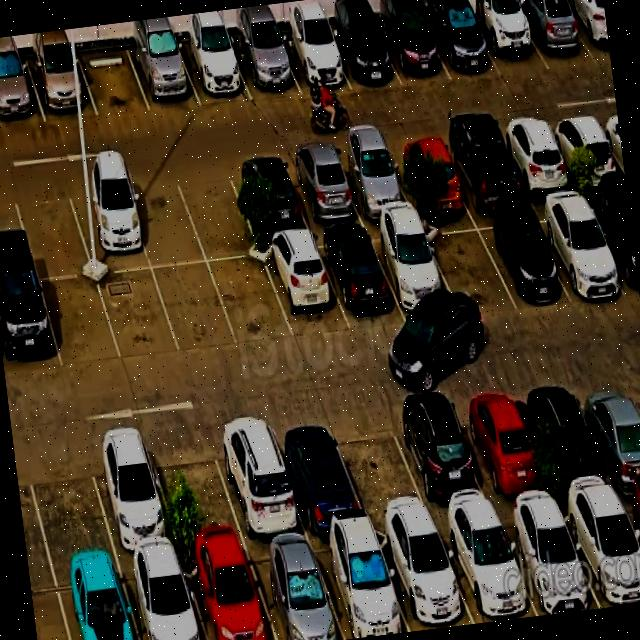empty: (328, 404, 432, 525), (145, 427, 245, 552), (22, 438, 115, 567), (420, 217, 516, 317), (174, 163, 260, 262), (123, 172, 206, 268), (11, 183, 93, 279), (97, 268, 180, 361), (152, 263, 237, 353), (208, 257, 293, 345), (40, 276, 121, 368), (77, 46, 150, 116)
occupied: (386, 394, 495, 521), (450, 386, 553, 512), (208, 414, 308, 543), (268, 412, 368, 534), (83, 431, 179, 558), (521, 378, 618, 503), (497, 507, 600, 616), (436, 514, 538, 623), (310, 530, 409, 639), (374, 524, 474, 631), (244, 539, 345, 640), (529, 197, 627, 300), (473, 210, 569, 309), (260, 235, 349, 340), (558, 495, 640, 608), (314, 228, 405, 329), (367, 223, 461, 319), (180, 546, 276, 640), (65, 177, 151, 274), (573, 373, 640, 494), (119, 553, 207, 640), (439, 128, 526, 210), (53, 560, 139, 640), (227, 156, 310, 238), (282, 150, 364, 229), (332, 144, 414, 221), (466, 2, 549, 78), (386, 136, 469, 211), (496, 120, 576, 197), (0, 277, 62, 376), (583, 192, 640, 297), (511, 0, 597, 69), (546, 114, 625, 189), (375, 10, 450, 86), (422, 7, 500, 80), (325, 19, 401, 89), (176, 38, 252, 106), (127, 41, 200, 111), (26, 52, 97, 122), (275, 28, 351, 93), (230, 34, 300, 99), (0, 58, 45, 127), (562, 0, 611, 63)
